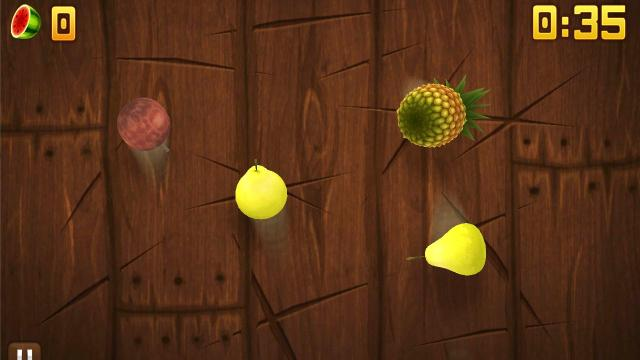fruit: (397, 72, 493, 148), (424, 222, 488, 274), (116, 97, 172, 153), (235, 161, 288, 219)
ignore: (9, 2, 43, 40)
